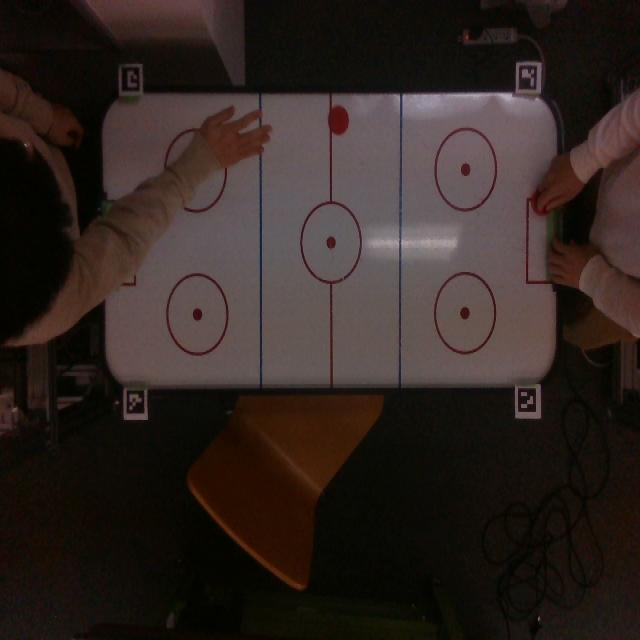puck: (328, 105, 349, 134)
